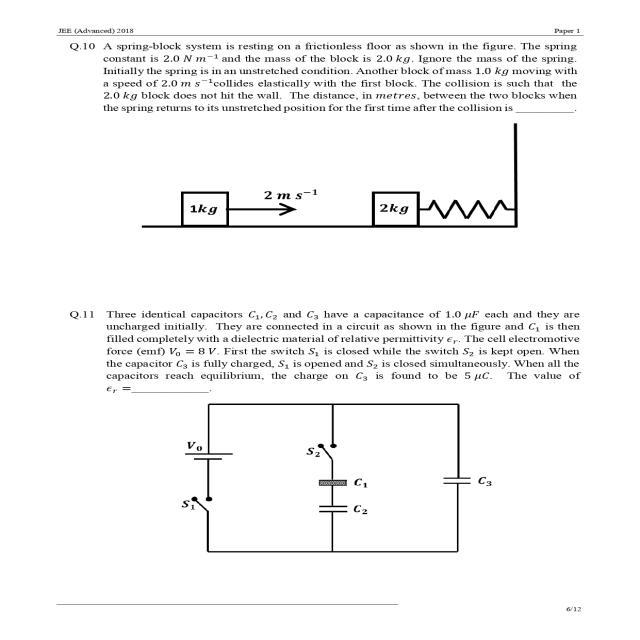Question_Answer_Block: (39, 301, 607, 574), (39, 39, 607, 276)
Question_Block: (39, 301, 607, 574), (39, 39, 607, 276)
Question_Paper_Area: (39, 39, 607, 589)
